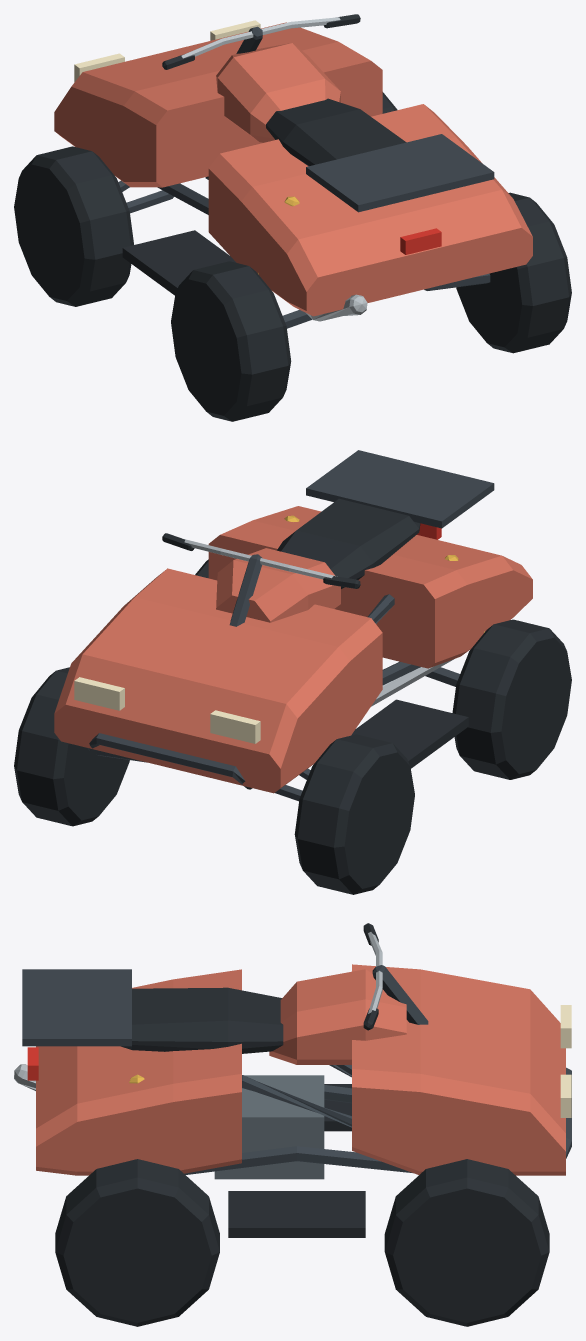
The model's file is SMALL_06.obj.
3 views of the same model, one above another, from view 1: azimuth 30°, elevation 25°; view 2: azimuth 150°, elevation 25°; view 3: azimuth 270°, elevation 25° (orthographic). The views are drawn at different scales.
Visible parts, largest first — view 1: rear_fenders, front_fenders, wheel_RL, wheel_FL, wheel_RR, racks, fuel_tank, seat, footrests, suspension_arms, headlights, handlebar (+4 smaller); view 2: front_fenders, rear_fenders, wheel_FL, wheel_RL, wheel_FR, racks, seat, fuel_tank, footrests, headlights, front_bumper, steering (+5 smaller); view 3: front_fenders, rear_fenders, wheel_FR, wheel_RR, seat, fuel_tank, racks, footrests, engine, chassis_tubes, headlights, steering (+1 smaller).
Part boxes in pixels (x1,y1,x2,y2): rear_fenders: (208, 104, 532, 316); front_fenders: (54, 22, 382, 187); wheel_RL: (171, 261, 291, 421); wheel_FL: (14, 146, 133, 306); wheel_RR: (456, 192, 571, 353); racks: (306, 134, 494, 212); fuel_tank: (216, 43, 340, 142); seat: (266, 98, 406, 166); footrests: (122, 230, 236, 295); suspension_arms: (118, 180, 490, 328); headlights: (74, 20, 260, 82); handlebar: (181, 17, 340, 58); front_fenders: (54, 568, 382, 793); rear_fenders: (208, 506, 532, 668); wheel_FL: (294, 734, 414, 894); wheel_RL: (452, 619, 571, 779); wheel_FR: (14, 667, 129, 826); racks: (306, 450, 494, 528); seat: (277, 498, 420, 588); fuel_tank: (216, 548, 340, 622); footrests: (351, 699, 468, 768); headlights: (74, 677, 260, 743); front_bumper: (88, 733, 252, 789); steering: (229, 554, 262, 626); front_fenders: (352, 964, 565, 1175); rear_fenders: (36, 969, 241, 1175); wheel_FR: (384, 1159, 549, 1326); wheel_RR: (55, 1159, 219, 1326); seat: (121, 987, 283, 1053); fuel_tank: (269, 969, 406, 1064); racks: (22, 969, 131, 1046); footrests: (228, 1084, 365, 1237); engine: (214, 1075, 324, 1179); chassis_tubes: (184, 1065, 411, 1174); headlights: (560, 1005, 571, 1117); steering: (372, 965, 428, 1024).
Bounding box in the file's own units: 1.46 × 1.12 × 2.03.
